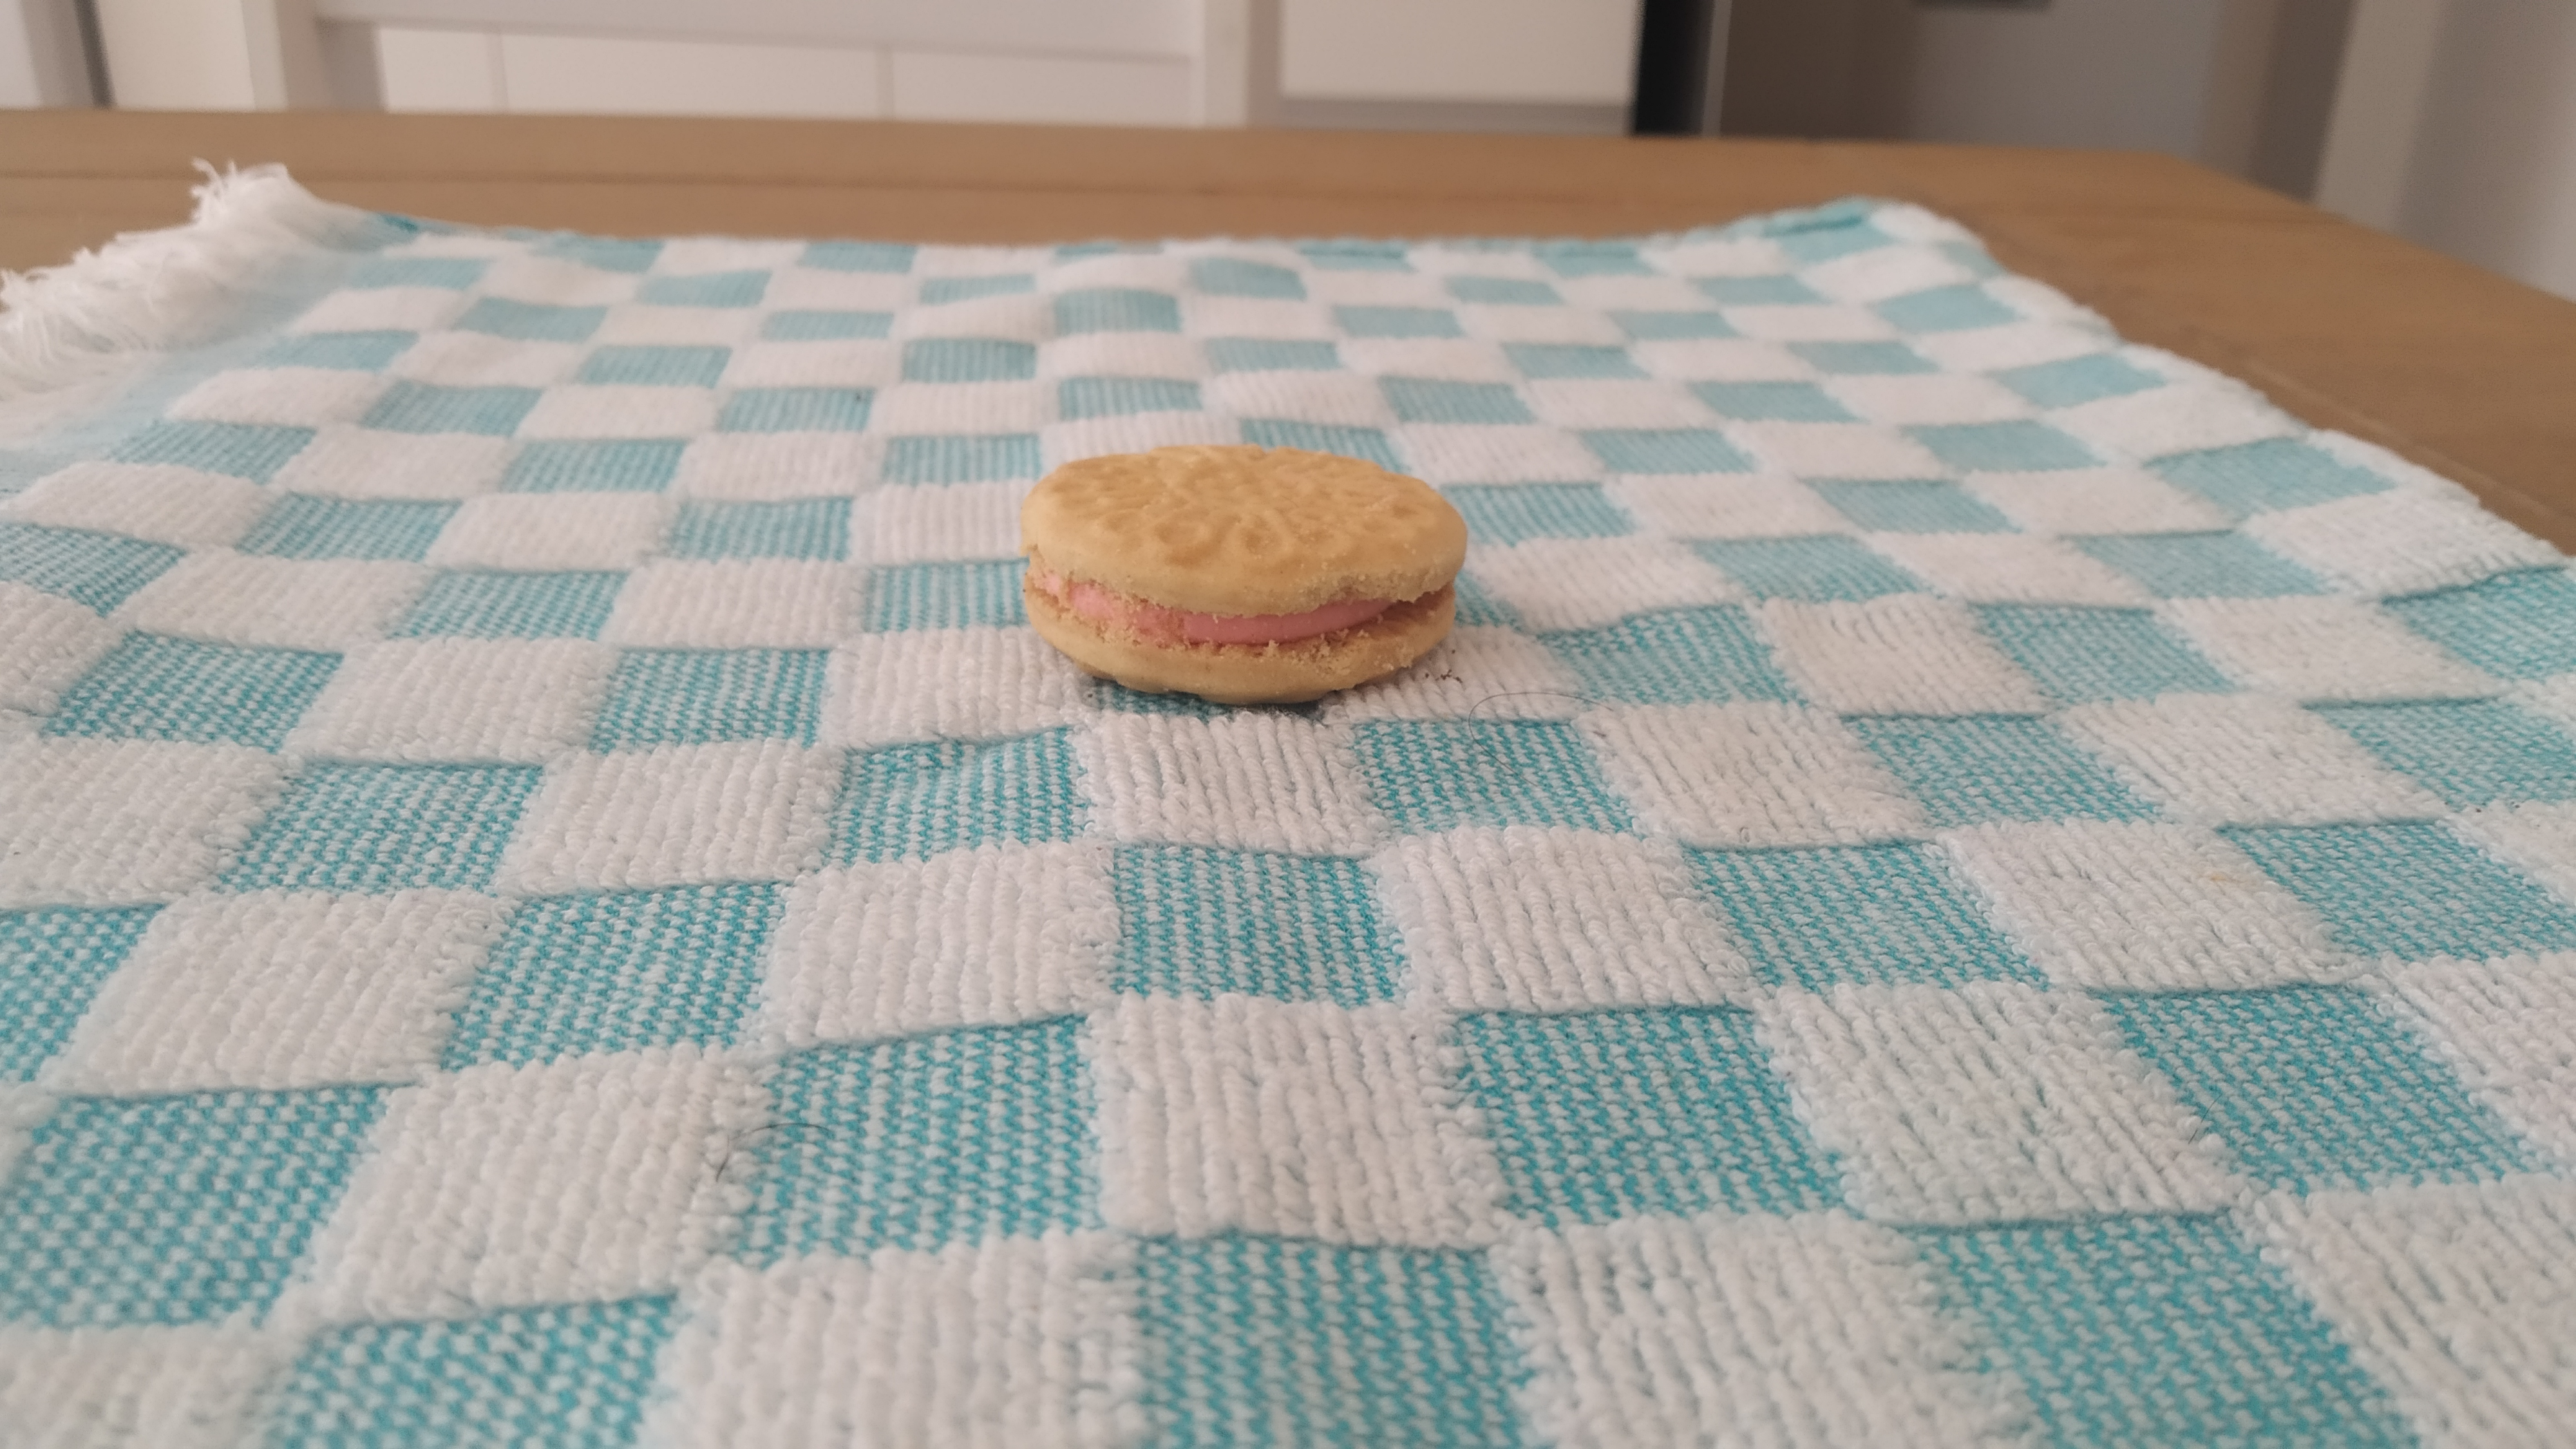lulu: (1023, 442, 1467, 708)
